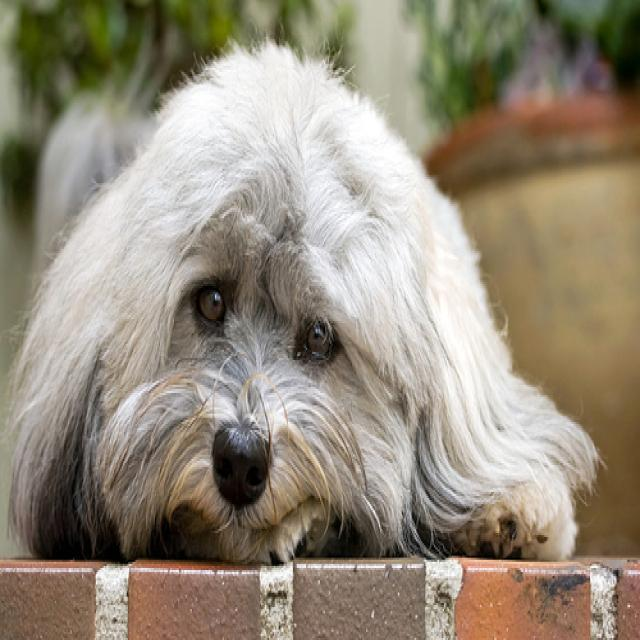dog-havanese: (8, 49, 598, 568)
